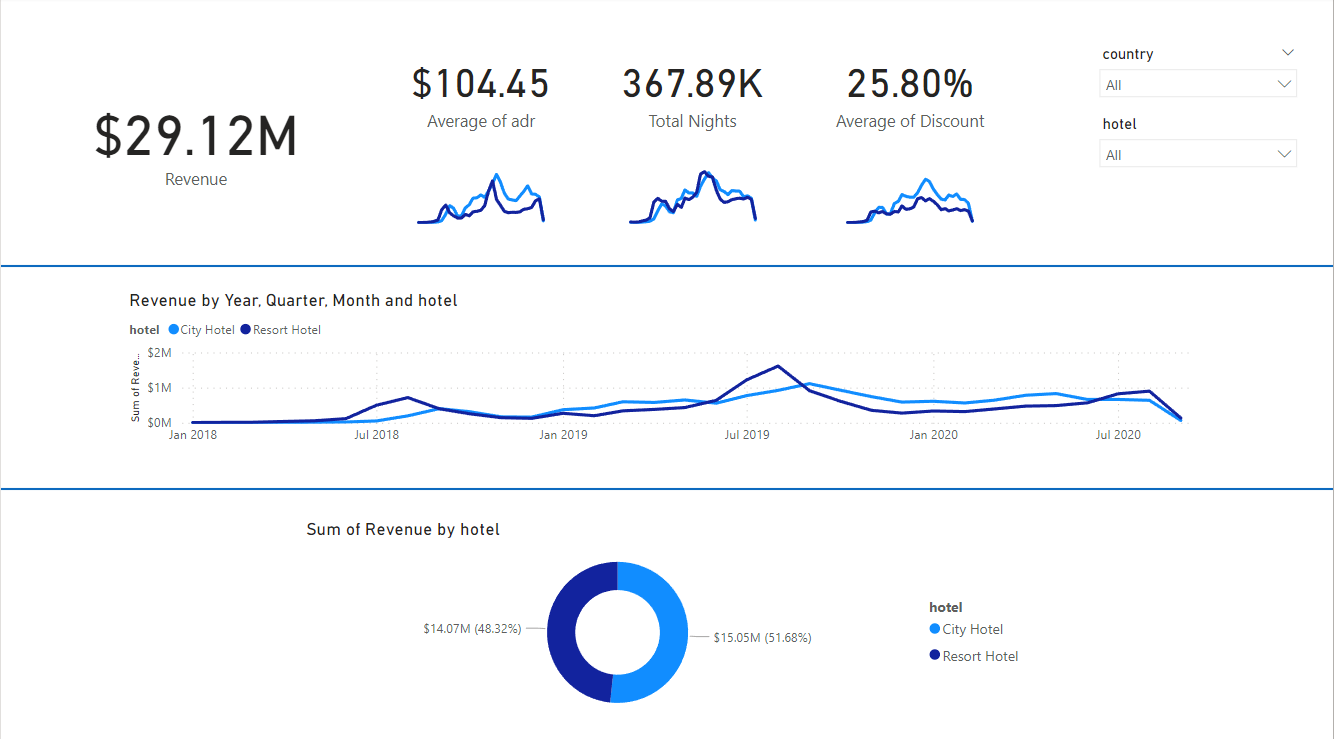

This screenshot's page, from the dashboard's own definition file:
{"tool":"powerbi","page":{"name":"Page 1","canvas":[1280,720],"ordinal":0},"visuals":[{"type":"shape","box":[0,242.2,1280,32.7],"z":0},{"type":"shape","box":[0,397.8,1280,149.9],"z":1000},{"type":"card","fields":{"Values":["Sum(Query1.Revenue)"]},"box":[41.3,77.8,292.1,116.3],"z":2000},{"type":"card","fields":{"Values":["Avg(Query1.adr)"]},"box":[376.7,31.7,169.1,115.3],"z":3000},{"type":"card","fields":{"Values":["Query1.Total Nights"]},"box":[574.7,31.7,179.7,115.3],"z":4000},{"type":"card","fields":{"Values":["Avg(Query1.Discount)"]},"box":[763,41.3,221,95.1],"z":5000},{"type":"lineChart","title":"Revenue by Year, Quarter, Month and hotel","fields":{"Category":["Query1.reservation_status_date.Variation.Date Hierarchy.Year","Query1.reservation_status_date.Variation.Date Hierarchy.Quarter","Query1.reservation_status_date.Variation.Date Hierarchy.Month","Query1.reservation_status_date.Variation.Date Hierarchy.Day"],"Series":["Query1.hotel"],"Y":["Sum(Query1.Revenue)"]},"box":[118.2,280.6,1042.6,158.6],"z":6000},{"type":"slicer","fields":{"Values":["Query1.country"]},"box":[1045.5,41.3,210.5,114.4],"z":7000},{"type":"slicer","fields":{"Values":["Query1.hotel"]},"box":[1045.5,108.6,210.5,100.9],"z":8000},{"type":"lineChart","fields":{"Category":["Query1.reservation_status_date.Variation.Date Hierarchy.Year","Query1.reservation_status_date.Variation.Date Hierarchy.Quarter","Query1.reservation_status_date.Variation.Date Hierarchy.Month","Query1.reservation_status_date.Variation.Date Hierarchy.Day"],"Y":["Sum(Query1.adr)"],"Series":["Query1.hotel"]},"box":[386.3,147,149.9,75.9],"z":9000},{"type":"lineChart","fields":{"Category":["Query1.reservation_status_date.Variation.Date Hierarchy.Year","Query1.reservation_status_date.Variation.Date Hierarchy.Quarter","Query1.reservation_status_date.Variation.Date Hierarchy.Month","Query1.reservation_status_date.Variation.Date Hierarchy.Day"],"Series":["Query1.hotel"],"Y":["Sum(Query1.Discount)"]},"box":[798.6,147,149.9,75.9],"z":10000},{"type":"lineChart","fields":{"Category":["Query1.reservation_status_date.Variation.Date Hierarchy.Year","Query1.reservation_status_date.Variation.Date Hierarchy.Quarter","Query1.reservation_status_date.Variation.Date Hierarchy.Month","Query1.reservation_status_date.Variation.Date Hierarchy.Day"],"Series":["Query1.hotel"],"Y":["Query1.Total Nights"]},"box":[590,147,149.9,75.9],"z":11000},{"type":"donutChart","fields":{"Category":["Query1.hotel"],"Y":["Sum(Query1.Revenue)"]},"box":[288.3,500.7,703.4,200.8],"z":11001}]}

Visuals, with their boxes in screenshot pixels (x1, y1, x2, y2), scaled from the page's 1280x720 canvas onto the 1334x739 screenshot:
shape: detection(0, 249, 1333, 282)
shape: detection(0, 408, 1333, 562)
card - Sum(Query1.Revenue): detection(43, 80, 347, 199)
card - Avg(Query1.adr): detection(393, 33, 569, 151)
card - Query1.Total Nights: detection(599, 33, 786, 151)
card - Avg(Query1.Discount): detection(795, 42, 1026, 140)
"Revenue by Year, Quarter, Month and hotel" lineChart: detection(123, 288, 1210, 451)
slicer - Query1.country: detection(1090, 42, 1309, 160)
slicer - Query1.hotel: detection(1090, 111, 1309, 215)
lineChart - Query1.reservation_status_date.Variation.Date Hierarchy.Year x Query1.reservation_status_date.Variation.Date Hierarchy.Quarter: detection(403, 151, 559, 229)
lineChart - Query1.reservation_status_date.Variation.Date Hierarchy.Year x Query1.reservation_status_date.Variation.Date Hierarchy.Quarter: detection(832, 151, 989, 229)
lineChart - Query1.reservation_status_date.Variation.Date Hierarchy.Year x Query1.reservation_status_date.Variation.Date Hierarchy.Quarter: detection(615, 151, 771, 229)
donutChart - Query1.hotel x Sum(Query1.Revenue): detection(300, 514, 1034, 720)
